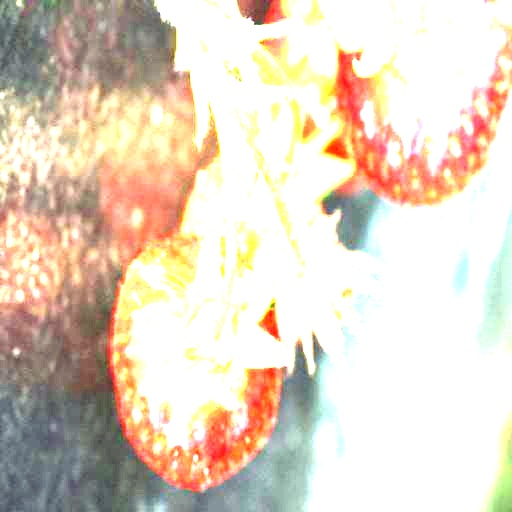Gray Mold: (248, 211, 385, 383)
